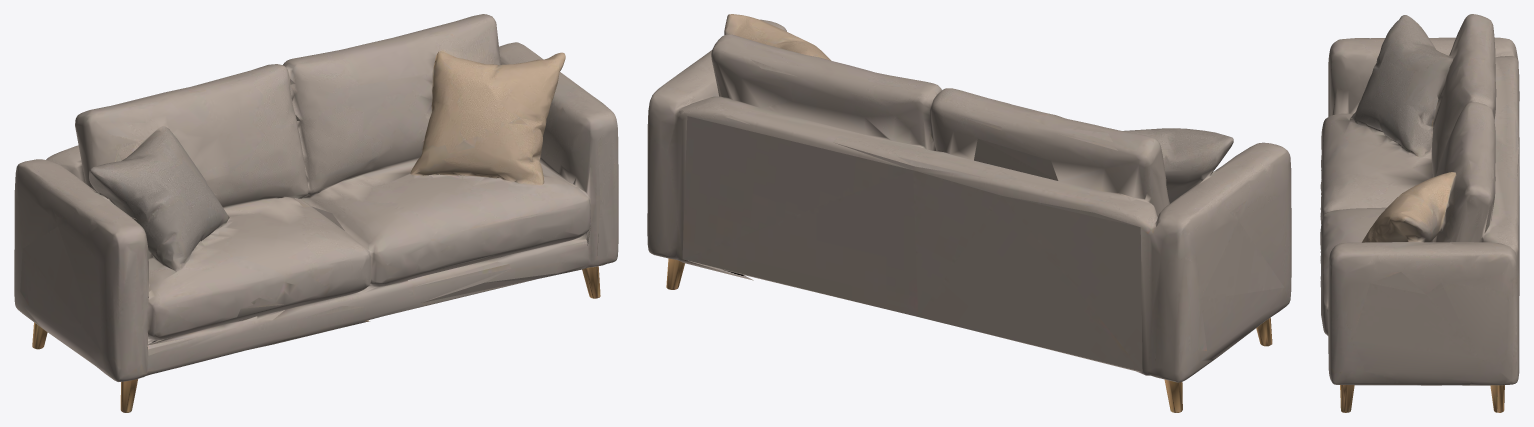
Rendered from sofa.glb.
3 views of the same model, side by side, from view 1: azimuth 30°, elevation 25°; view 2: azimuth 150°, elevation 25°; view 3: azimuth 270°, elevation 25° (orthographic). The views are drawn at different scales.
Parts seen in each view (by area): view 1: output_unwrapped; view 2: output_unwrapped; view 3: output_unwrapped.
Part boxes in pixels (bbox=[...]): output_unwrapped: bbox=[14, 14, 618, 412]; output_unwrapped: bbox=[647, 14, 1291, 412]; output_unwrapped: bbox=[1320, 14, 1519, 412].
Size of the model in its own units: 1.91 by 0.8499 by 0.7298.
1 material, 1 textured.
